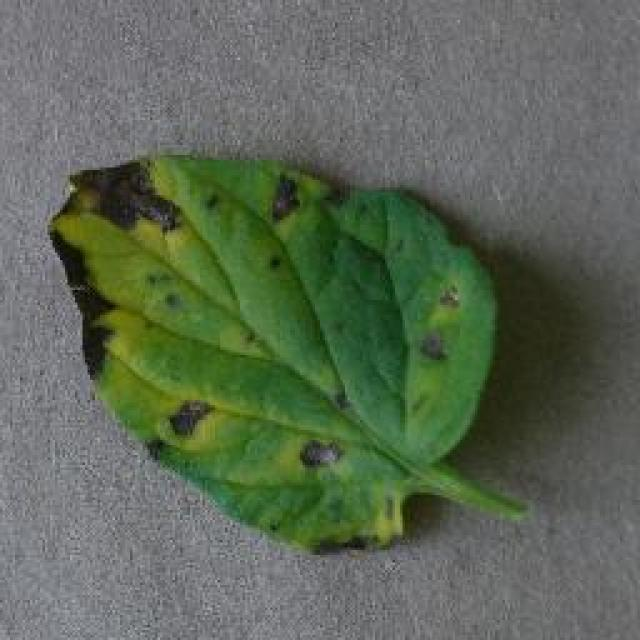Tomato Early blight leaf: (52, 150, 499, 555)
